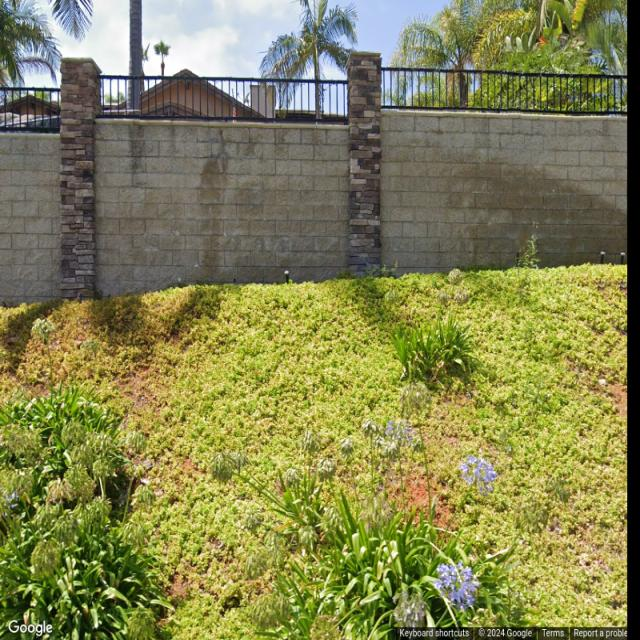House: (0, 68, 348, 131)
